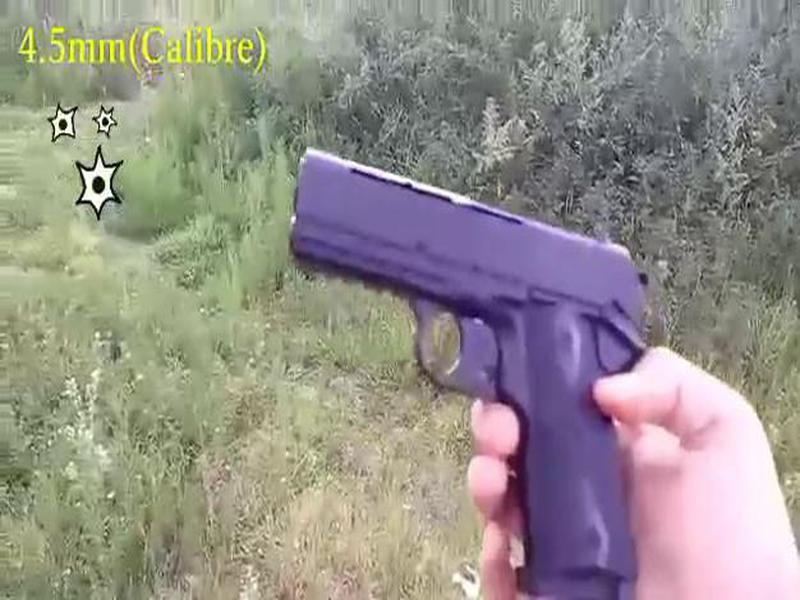Pistola: (274, 129, 708, 600)
